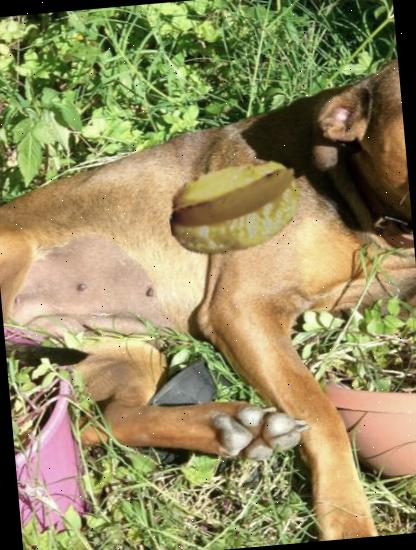Carambula: (163, 137, 309, 283)
